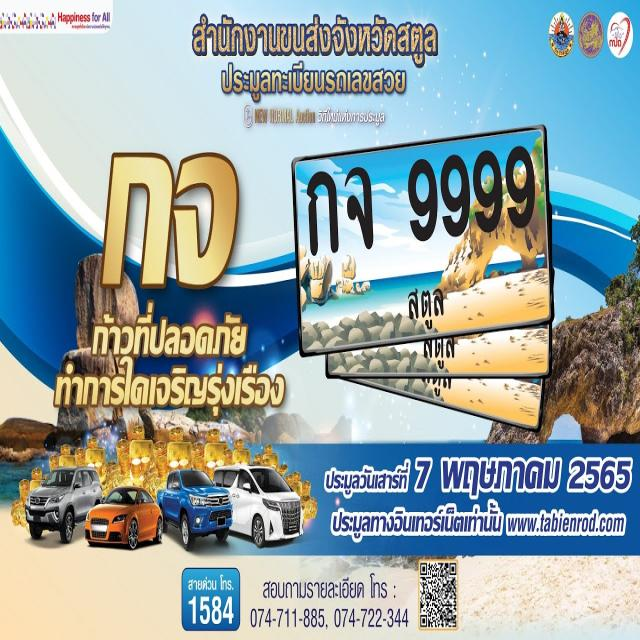STN: (406, 288, 449, 328), (418, 338, 463, 368), (419, 378, 456, 402)
